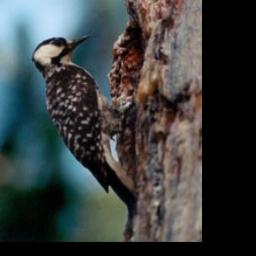Woodpecker: (19, 30, 145, 220)
